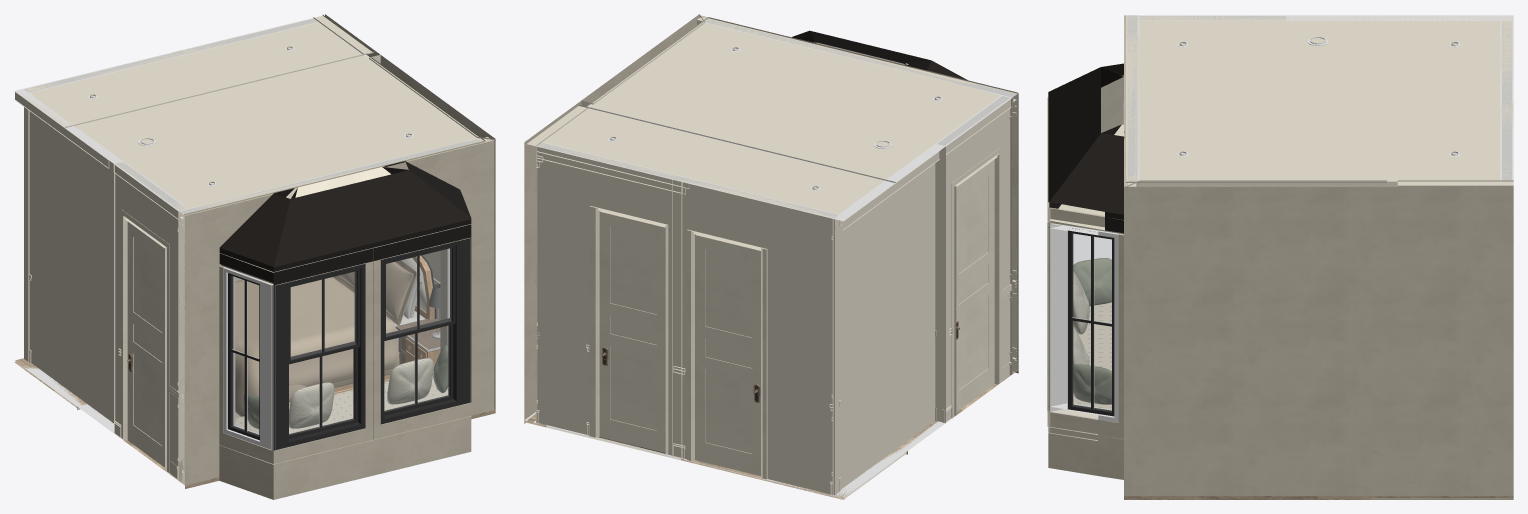
File: loli-bedroom-1a29fcb768c7.glb
The picture shows the model from 3 angles, left to right: view 1: azimuth 30°, elevation 25°; view 2: azimuth 150°, elevation 25°; view 3: azimuth 270°, elevation 25°; orthographic projection. The views are drawn at different scales.
Parts seen in each view (by area): view 1: loli-bedroom-dbd60ee5c3733ed6, loli-bedroom-6a1144f4e43410bb, loli-bedroom-93447d0fea18c81b, loli-bedroom-fd1c2425c72e98e4, loli-bedroom-4cda501b4aaed82b, loli-bedroom-daa4f3edc919433a, loli-bedroom-2575515a05775d9e, loli-bedroom-7cd33252cebb505d, loli-bedroom-527014f532f46c8e, loli-bedroom-cf6d22c5317ced0b, loli-bedroom-75b75731e5e739a5, loli-bedroom-1c854c81caf855fc (+23 smaller); view 2: loli-bedroom-0e637d2be41161fb, loli-bedroom-dbd60ee5c3733ed6, loli-bedroom-6a1144f4e43410bb, loli-bedroom-eceff908bd344cec, loli-bedroom-5b37b110dc0e2cdc, loli-bedroom-2575515a05775d9e, loli-bedroom-68d06b361ac47823, loli-bedroom-cf6d22c5317ced0b, loli-bedroom-319244b3406409d9, loli-bedroom-93447d0fea18c81b, loli-bedroom-d6b1bc8c737b28e2, loli-bedroom-8cbce1d8f2f8a576 (+14 smaller); view 3: loli-bedroom-592bd9af2ed71797, loli-bedroom-dbd60ee5c3733ed6, loli-bedroom-319244b3406409d9, loli-bedroom-2575515a05775d9e, loli-bedroom-53e6a9e479527da3, loli-bedroom-daa4f3edc919433a, loli-bedroom-131a246e00605616, loli-bedroom-d8b729a36612415b, loli-bedroom-4fba7e1fe7b1aa39, loli-bedroom-93447d0fea18c81b, loli-bedroom-0e637d2be41161fb, loli-bedroom-e0a3201bd49c7536 (+13 smaller).
Part boxes in pixels (bbox=[...]): loli-bedroom-dbd60ee5c3733ed6: bbox=[75, 53, 485, 215]; loli-bedroom-6a1144f4e43410bb: bbox=[14, 88, 123, 433]; loli-bedroom-93447d0fea18c81b: bbox=[178, 138, 493, 485]; loli-bedroom-fd1c2425c72e98e4: bbox=[273, 264, 365, 450]; loli-bedroom-4cda501b4aaed82b: bbox=[381, 237, 471, 424]; loli-bedroom-daa4f3edc919433a: bbox=[273, 167, 471, 285]; loli-bedroom-2575515a05775d9e: bbox=[18, 15, 373, 127]; loli-bedroom-7cd33252cebb505d: bbox=[235, 277, 399, 416]; loli-bedroom-527014f532f46c8e: bbox=[223, 267, 273, 450]; loli-bedroom-cf6d22c5317ced0b: bbox=[127, 222, 164, 467]; loli-bedroom-75b75731e5e739a5: bbox=[272, 259, 470, 469]; loli-bedroom-1c854c81caf855fc: bbox=[273, 421, 471, 499]; loli-bedroom-0e637d2be41161fb: bbox=[536, 142, 839, 495]; loli-bedroom-dbd60ee5c3733ed6: bbox=[586, 17, 1017, 182]; loli-bedroom-6a1144f4e43410bb: bbox=[833, 144, 945, 497]; loli-bedroom-eceff908bd344cec: bbox=[599, 211, 665, 452]; loli-bedroom-5b37b110dc0e2cdc: bbox=[695, 234, 760, 475]; loli-bedroom-2575515a05775d9e: bbox=[526, 105, 889, 220]; loli-bedroom-68d06b361ac47823: bbox=[935, 95, 1011, 422]; loli-bedroom-cf6d22c5317ced0b: bbox=[956, 159, 994, 411]; loli-bedroom-319244b3406409d9: bbox=[524, 100, 592, 422]; loli-bedroom-93447d0fea18c81b: bbox=[701, 15, 1018, 374]; loli-bedroom-d6b1bc8c737b28e2: bbox=[687, 229, 767, 479]; loli-bedroom-8cbce1d8f2f8a576: bbox=[954, 154, 999, 416]; loli-bedroom-592bd9af2ed71797: bbox=[1124, 180, 1386, 495]; loli-bedroom-dbd60ee5c3733ed6: bbox=[1126, 15, 1397, 182]; loli-bedroom-319244b3406409d9: bbox=[1387, 180, 1513, 495]; loli-bedroom-2575515a05775d9e: bbox=[1397, 15, 1513, 186]; loli-bedroom-53e6a9e479527da3: bbox=[1050, 223, 1118, 422]; loli-bedroom-daa4f3edc919433a: bbox=[1048, 67, 1123, 222]; loli-bedroom-131a246e00605616: bbox=[1049, 124, 1124, 233]; loli-bedroom-d8b729a36612415b: bbox=[1048, 233, 1123, 444]; loli-bedroom-4fba7e1fe7b1aa39: bbox=[1048, 433, 1123, 479]; loli-bedroom-93447d0fea18c81b: bbox=[1124, 15, 1139, 186]; loli-bedroom-0e637d2be41161fb: bbox=[1500, 20, 1513, 180]; loli-bedroom-e0a3201bd49c7536: bbox=[1073, 302, 1111, 409].
Size of the model in its own units: 3.62 by 3.05 by 4.12.
46 materials, 14 textured.
